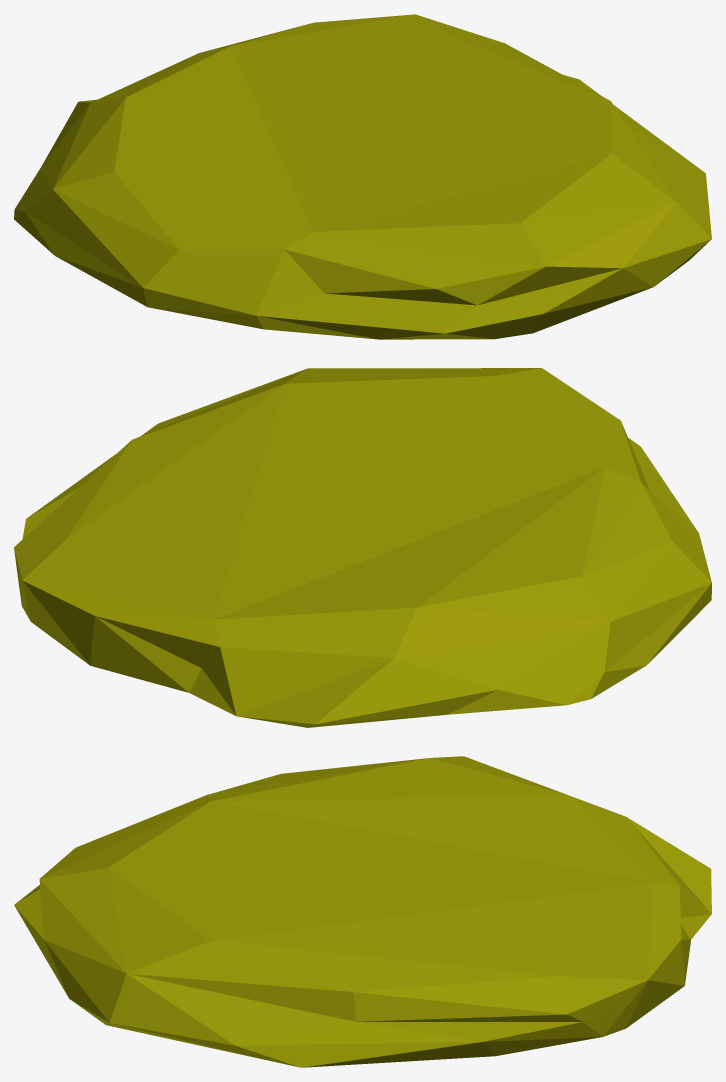
The model's file is Cave_Lair_Vegetation_Swamp_Mushroom_Large_03.fbx.
3 renders of one model, top to bottom at view 1: azimuth 30°, elevation 25°; view 2: azimuth 150°, elevation 25°; view 3: azimuth 270°, elevation 25°, orthographic. The views are drawn at different scales.
Parts seen in each view (by area): view 1: Cave_Lair_Vegetation_Swamp_Mushroom_Large_03; view 2: Cave_Lair_Vegetation_Swamp_Mushroom_Large_03; view 3: Cave_Lair_Vegetation_Swamp_Mushroom_Large_03.
Boxes of the visible parts, x1=… form: Cave_Lair_Vegetation_Swamp_Mushroom_Large_03: x1=14, y1=14, x2=711, y2=339; Cave_Lair_Vegetation_Swamp_Mushroom_Large_03: x1=14, y1=368, x2=711, y2=727; Cave_Lair_Vegetation_Swamp_Mushroom_Large_03: x1=14, y1=756, x2=711, y2=1067.
Size of the model in its own units: 5.28 by 0.7099 by 5.73.
